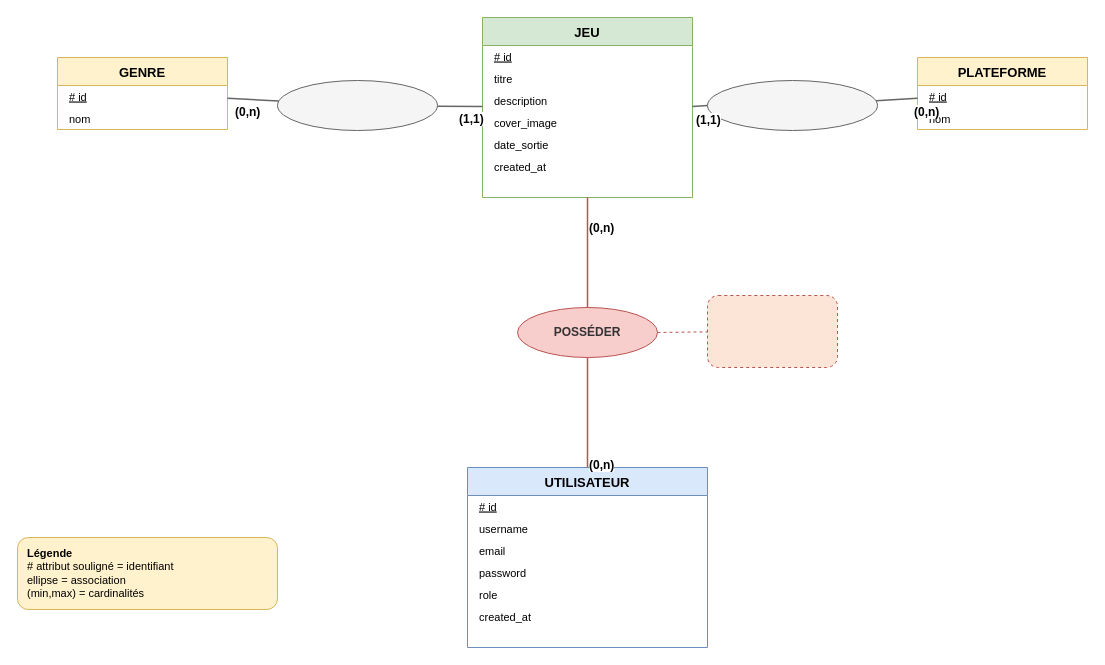
Some shapes in this 1105 by 665 pixel diagram are drawn without their labels. Each missing label, with the centre of its shape:
APPARTENIR_À: point (357, 105)
DISPONIBLE_SUR: point (792, 105)
statut temps_jeu date_ajout: point (772, 331)
